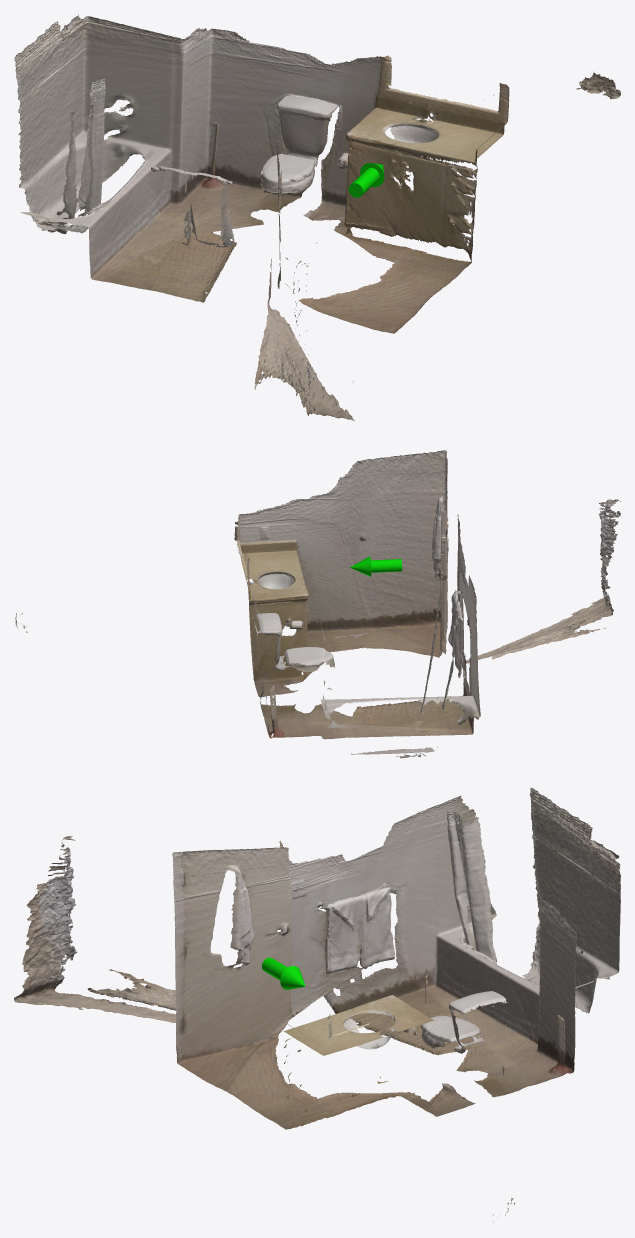
Rendered from situation_3.glb.
The picture shows the model from 3 angles, top to bottom: view 1: azimuth 30°, elevation 25°; view 2: azimuth 150°, elevation 25°; view 3: azimuth 270°, elevation 25°; orthographic projection. The views are drawn at different scales.
Visible parts, largest first — view 1: world; view 2: world; view 3: world.
Part boxes in pixels (x1,y1,x2,y2): world: (14, 14, 620, 421); world: (15, 450, 620, 758); world: (14, 788, 620, 1222).
Size of the model in its own units: 5.19 by 1.87 by 4.73.
